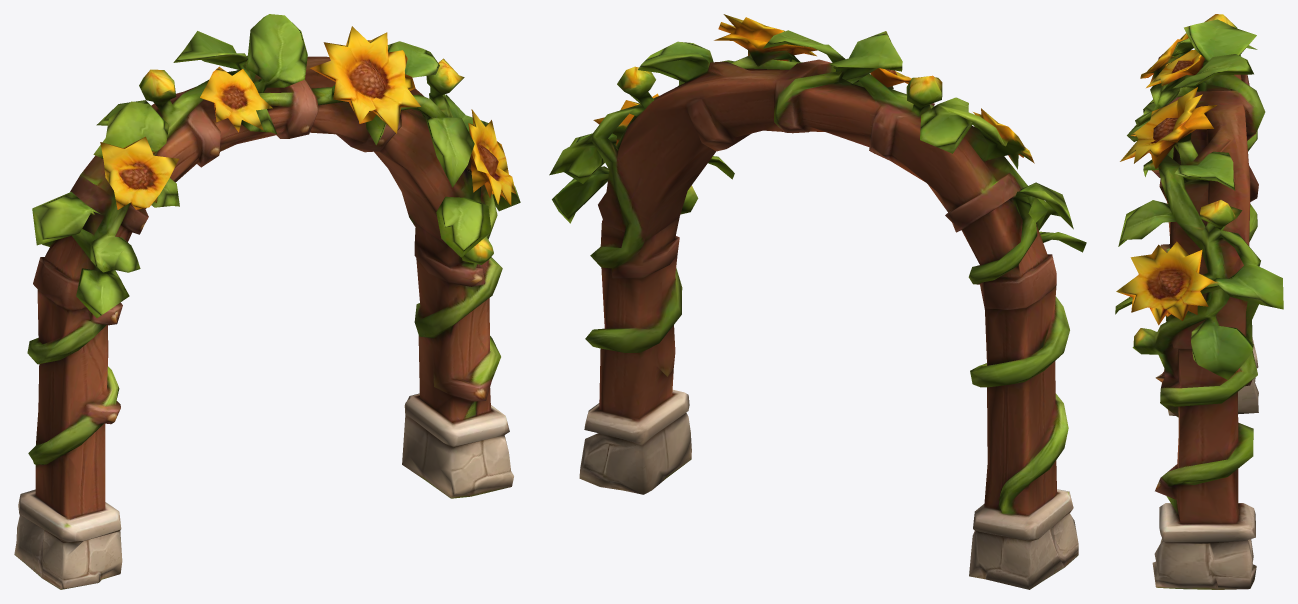
Rendered from flower-arch-DwE9DjWw.glb.
3 renders of one model, left to right at view 1: azimuth 30°, elevation 25°; view 2: azimuth 150°, elevation 25°; view 3: azimuth 270°, elevation 25°, orthographic. The views are drawn at different scales.
Parts seen in each view (by area): view 1: flower-arch; view 2: flower-arch; view 3: flower-arch.
Part boxes in pixels (x1,y1,x2,y2): flower-arch: (14, 14, 520, 589); flower-arch: (549, 14, 1086, 589); flower-arch: (1115, 14, 1283, 589).
Bounding box in the file's own units: 3.2 × 3.05 × 1.05.
1 material, 1 textured.
